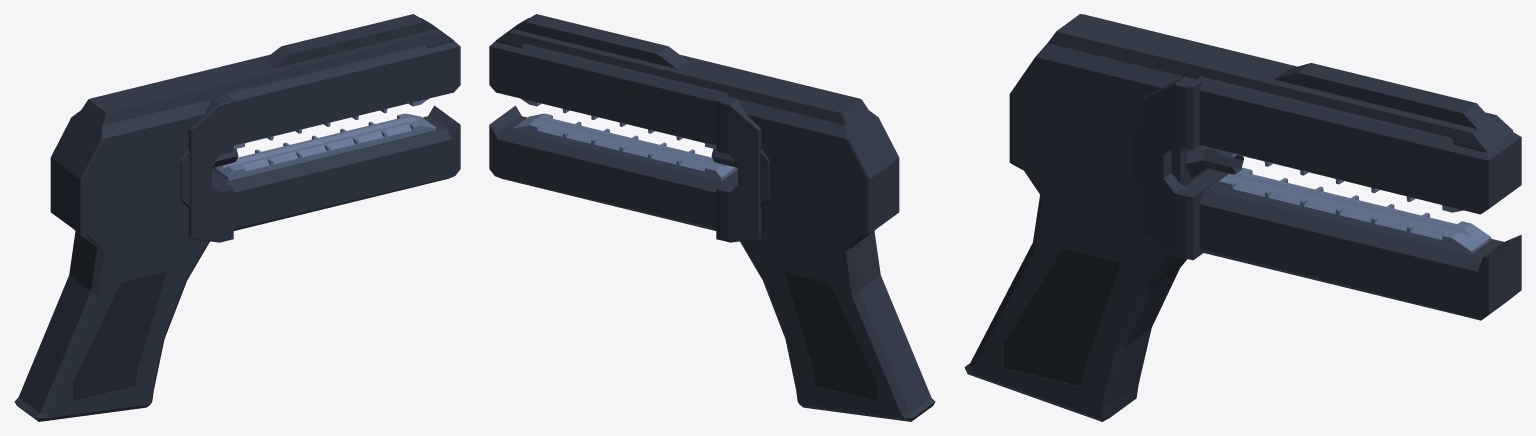
The model's file is HandGun 1.fbx.
3 renders of one model, left to right at view 1: azimuth 30°, elevation 25°; view 2: azimuth 150°, elevation 25°; view 3: azimuth 330°, elevation 25°, orthographic. The views are drawn at different scales.
Visible parts, largest first — view 1: Circle.001; view 2: Circle.001; view 3: Circle.001.
Part boxes in pixels (x1=…): Circle.001: x1=14, y1=14, x2=460, y2=421; Circle.001: x1=489, y1=14, x2=935, y2=421; Circle.001: x1=964, y1=14, x2=1521, y2=421.
Bounding box in the file's own units: 446 × 316 × 68.
